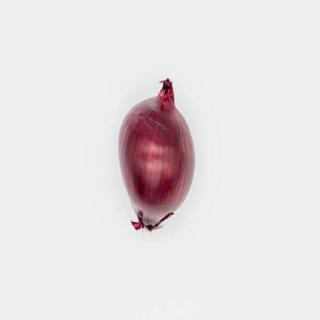Bawang Merah: (116, 77, 200, 234)
